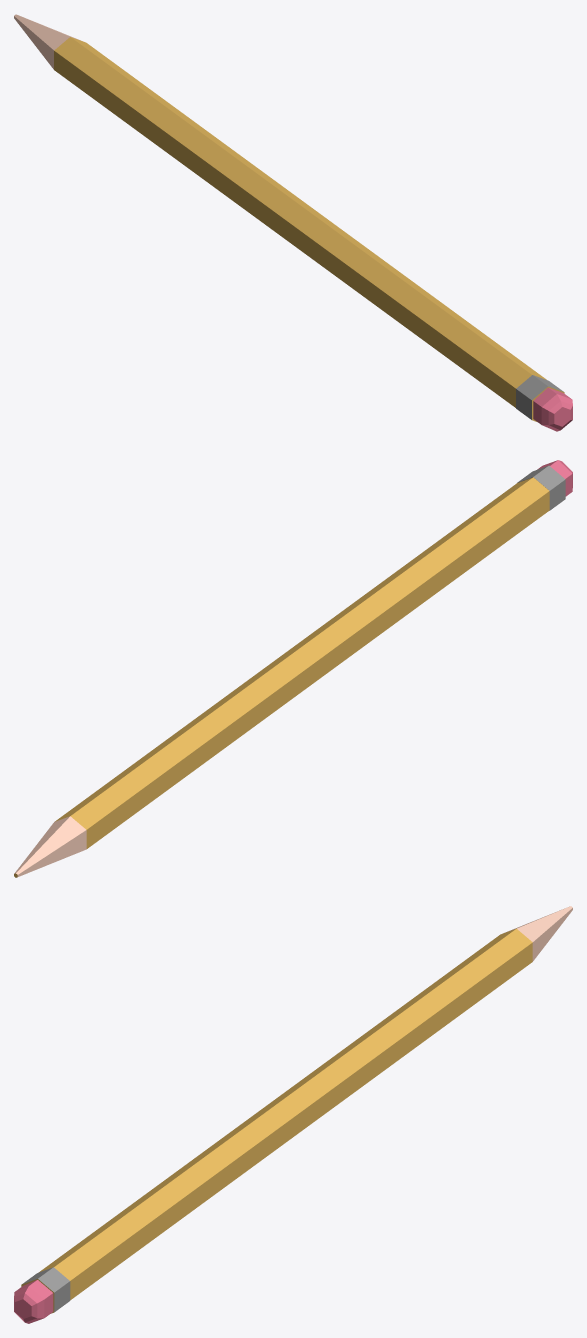
The model's file is pencil_wood_A.fbx.
The picture shows the model from 3 angles, top to bottom: view 1: azimuth 30°, elevation 25°; view 2: azimuth 150°, elevation 25°; view 3: azimuth 330°, elevation 25°; orthographic projection.
Visible parts, largest first — view 1: Cylinder.014; view 2: Cylinder.014; view 3: Cylinder.014.
Boxes of the visible parts, x1,y1,x2,y2 form: Cylinder.014: (14, 14, 572, 431); Cylinder.014: (14, 460, 572, 877); Cylinder.014: (14, 906, 572, 1323).
Size of the model in its own units: 2.53 by 2.92 by 72.98.
